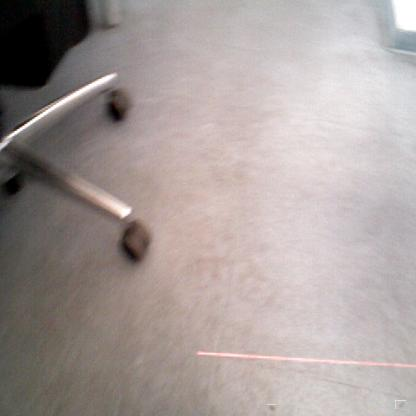mark: (266, 404, 276, 413), (396, 400, 405, 409)
